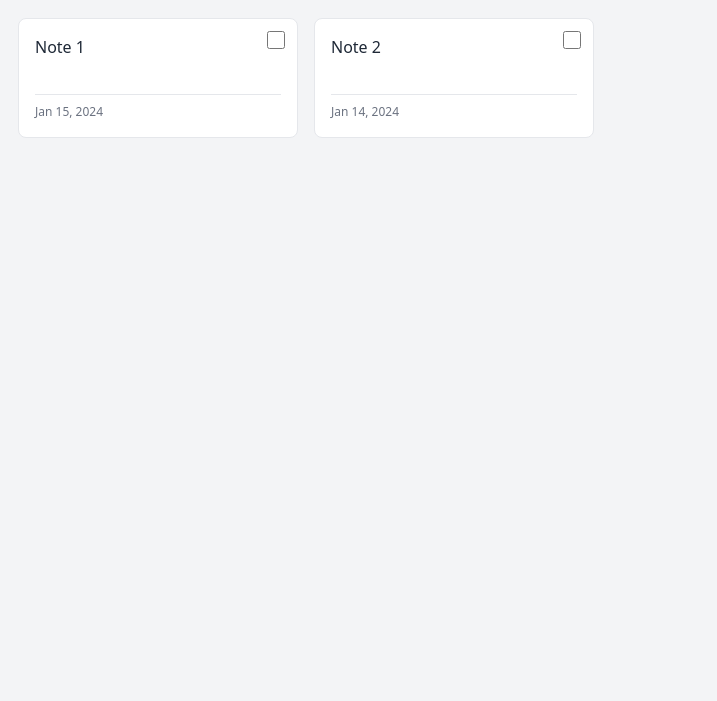
Test case: InboxNotesList › shows delete button when notes are selected
This screenshot has width=717, height=701.
Expected: the heading "Note 1" is shown, top-left (35, 36), bottom-right (85, 58)
Expected: the text "delete selected" is not shown
Click the 1st checkbox.
click(276, 40)  # box top-left (267, 31), bottom-right (285, 49)
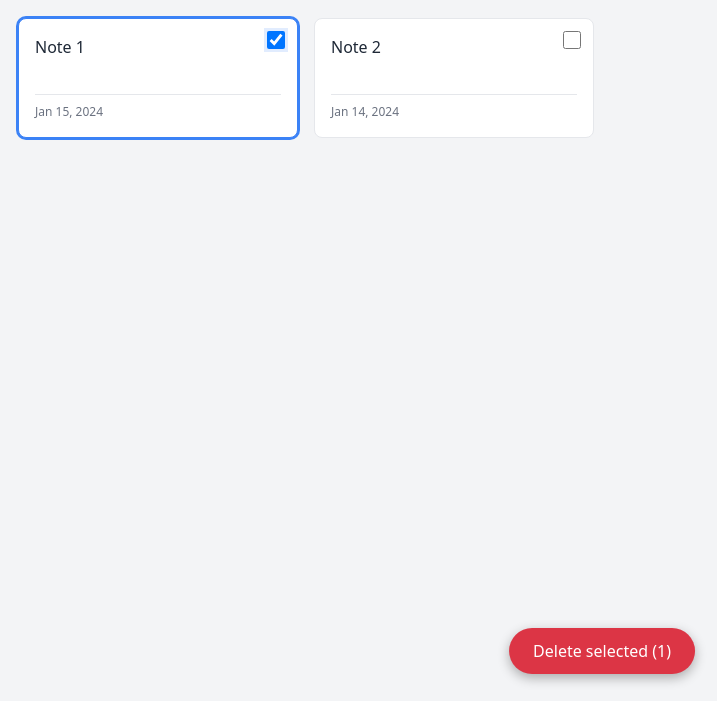
Now the button "Delete selected (1)" is shown, box top-left (509, 628), bottom-right (695, 674)
Click the 2nd checkbox.
click(572, 40)  # box top-left (563, 31), bottom-right (581, 49)
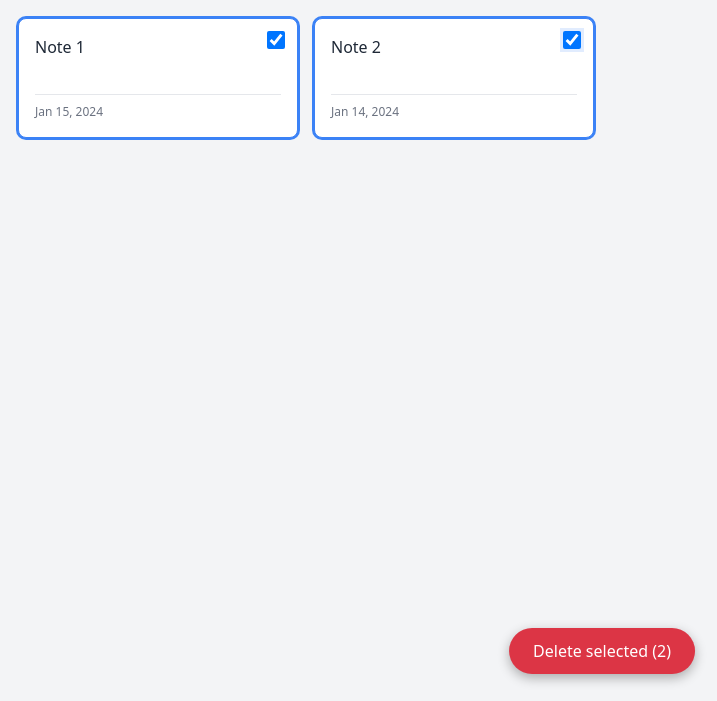
Now the button "Delete selected (2)" is shown, box top-left (509, 628), bottom-right (695, 674)
